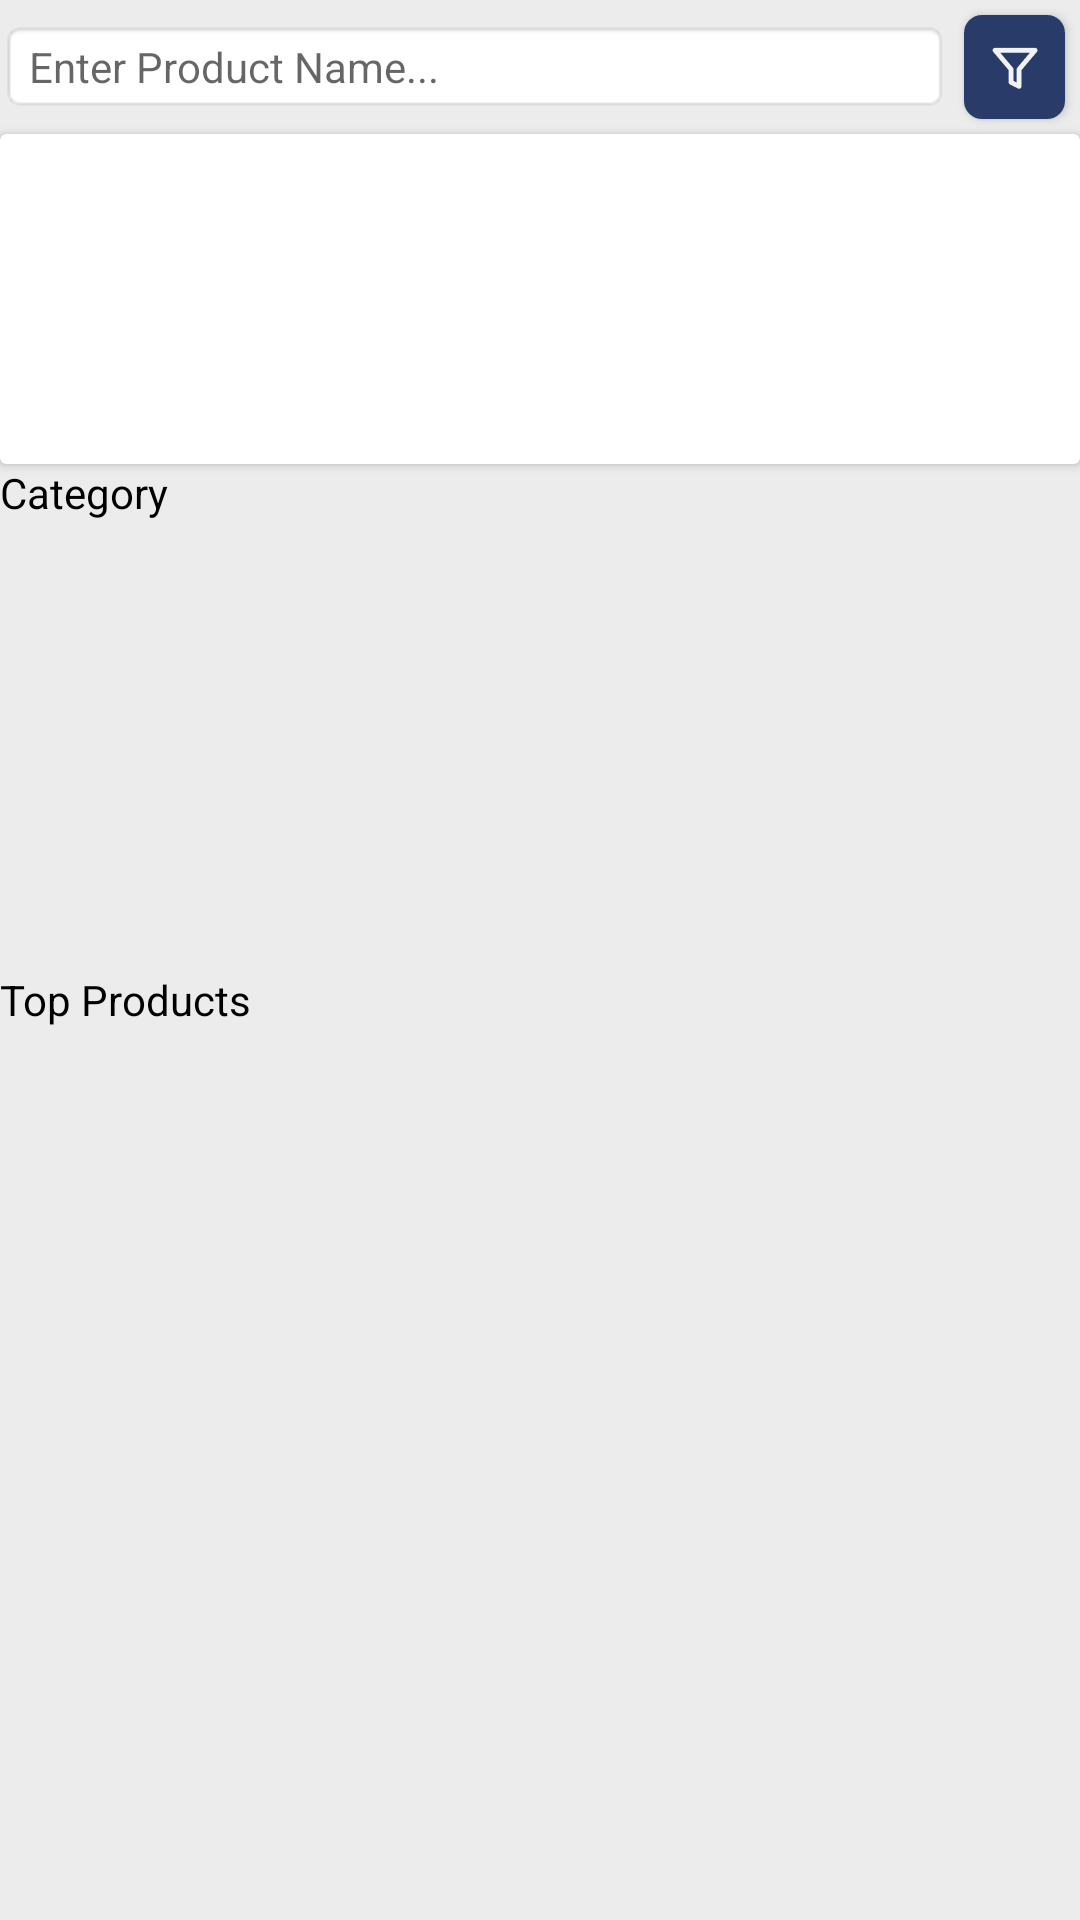

Icon click points for this 1080w x 1920h phone screenshot, format (x=x, y=y):
filter: (x=1014, y=67)
